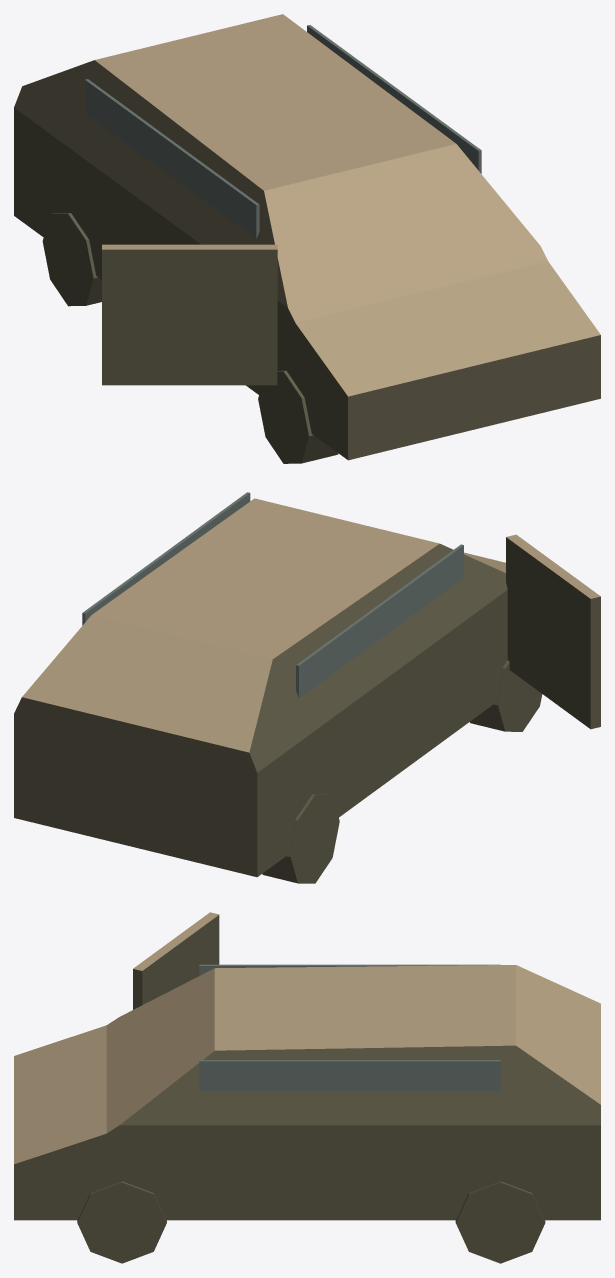
File: SM_CocheCivil_Utilitario_v1_LOD1.fbx
3 renders of one model, top to bottom at view 1: azimuth 30°, elevation 25°; view 2: azimuth 150°, elevation 25°; view 3: azimuth 270°, elevation 25°, orthographic. The views are drawn at different scales.
Visible parts, largest first — view 1: SM_coche_civil_v1_LOD1; view 2: SM_coche_civil_v1_LOD1; view 3: SM_coche_civil_v1_LOD1.
Boxes of the visible parts, x1,y1,x2,y2 form: SM_coche_civil_v1_LOD1: [14, 14, 600, 463]; SM_coche_civil_v1_LOD1: [14, 492, 600, 883]; SM_coche_civil_v1_LOD1: [14, 912, 600, 1263].
Size of the model in its own units: 2.56 by 1.45 by 3.8.
